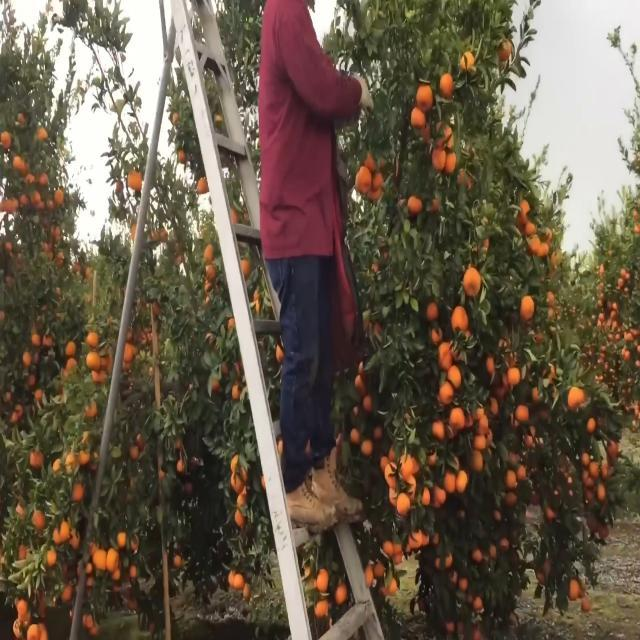Jeruk Sudah Matang: (416, 80, 436, 114), (461, 264, 482, 296), (450, 304, 470, 336), (435, 341, 453, 372), (439, 69, 456, 101), (436, 380, 456, 406), (448, 406, 466, 431), (520, 294, 534, 321), (316, 568, 331, 592), (333, 582, 348, 606), (424, 298, 440, 320), (514, 406, 530, 424), (508, 366, 521, 388)
